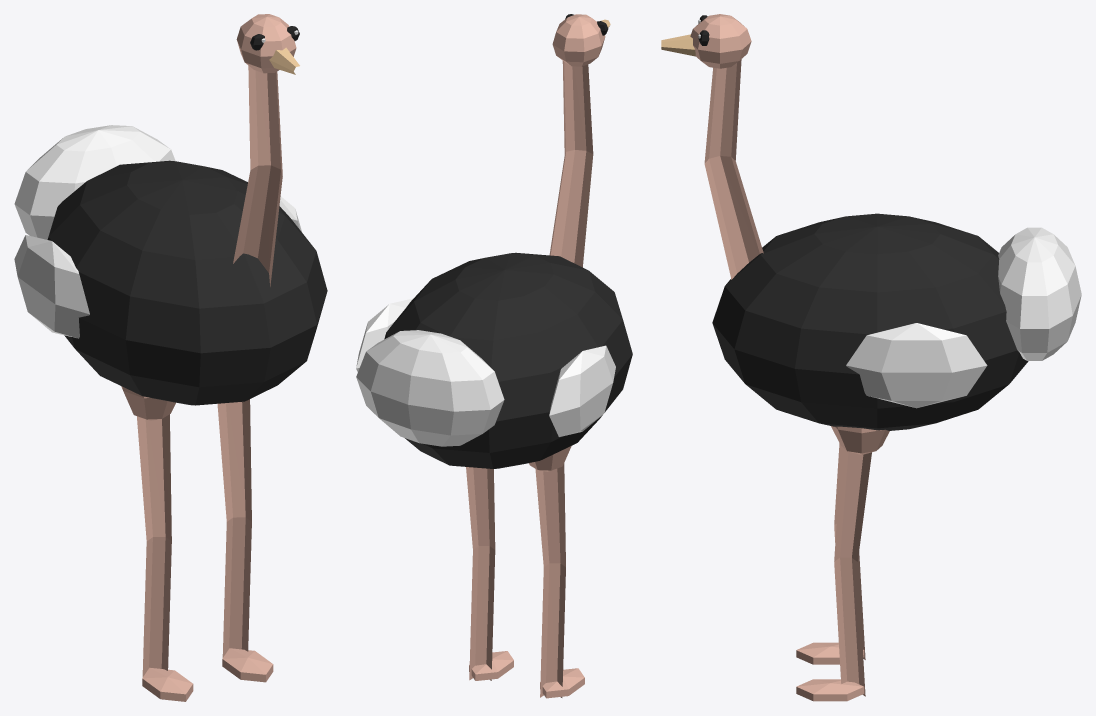
The model's file is struts.glb.
3 views of the same model, side by side, from view 1: azimuth 30°, elevation 25°; view 2: azimuth 150°, elevation 25°; view 3: azimuth 270°, elevation 25° (orthographic). The views are drawn at different scales.
Parts seen in each view (by area): view 1: struts; view 2: struts; view 3: struts.
Part boxes in pixels (x1,y1,x2,y2): struts: [14, 14, 327, 701]; struts: [356, 14, 632, 698]; struts: [661, 14, 1081, 701].
Size of the model in its own units: 0.6866 by 1.86 by 1.07.
